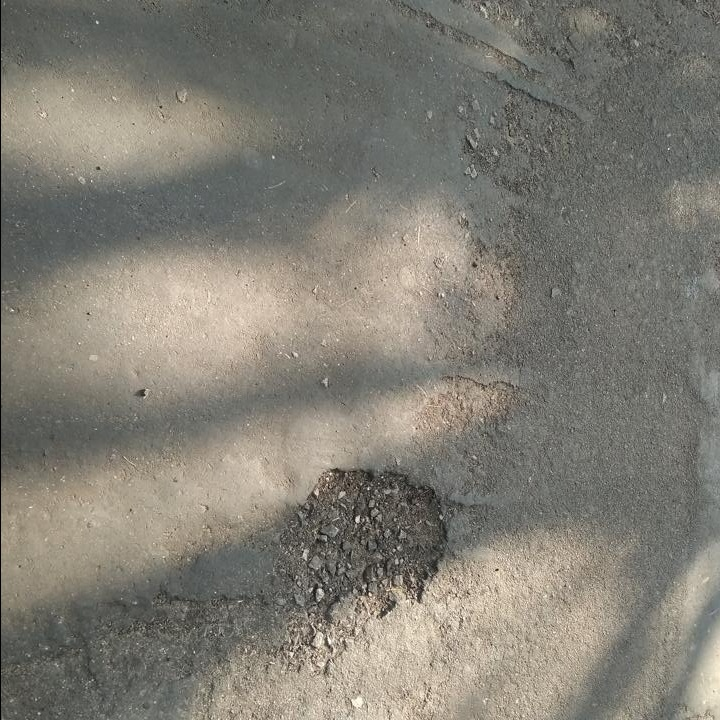pothole: (284, 457, 454, 640)
